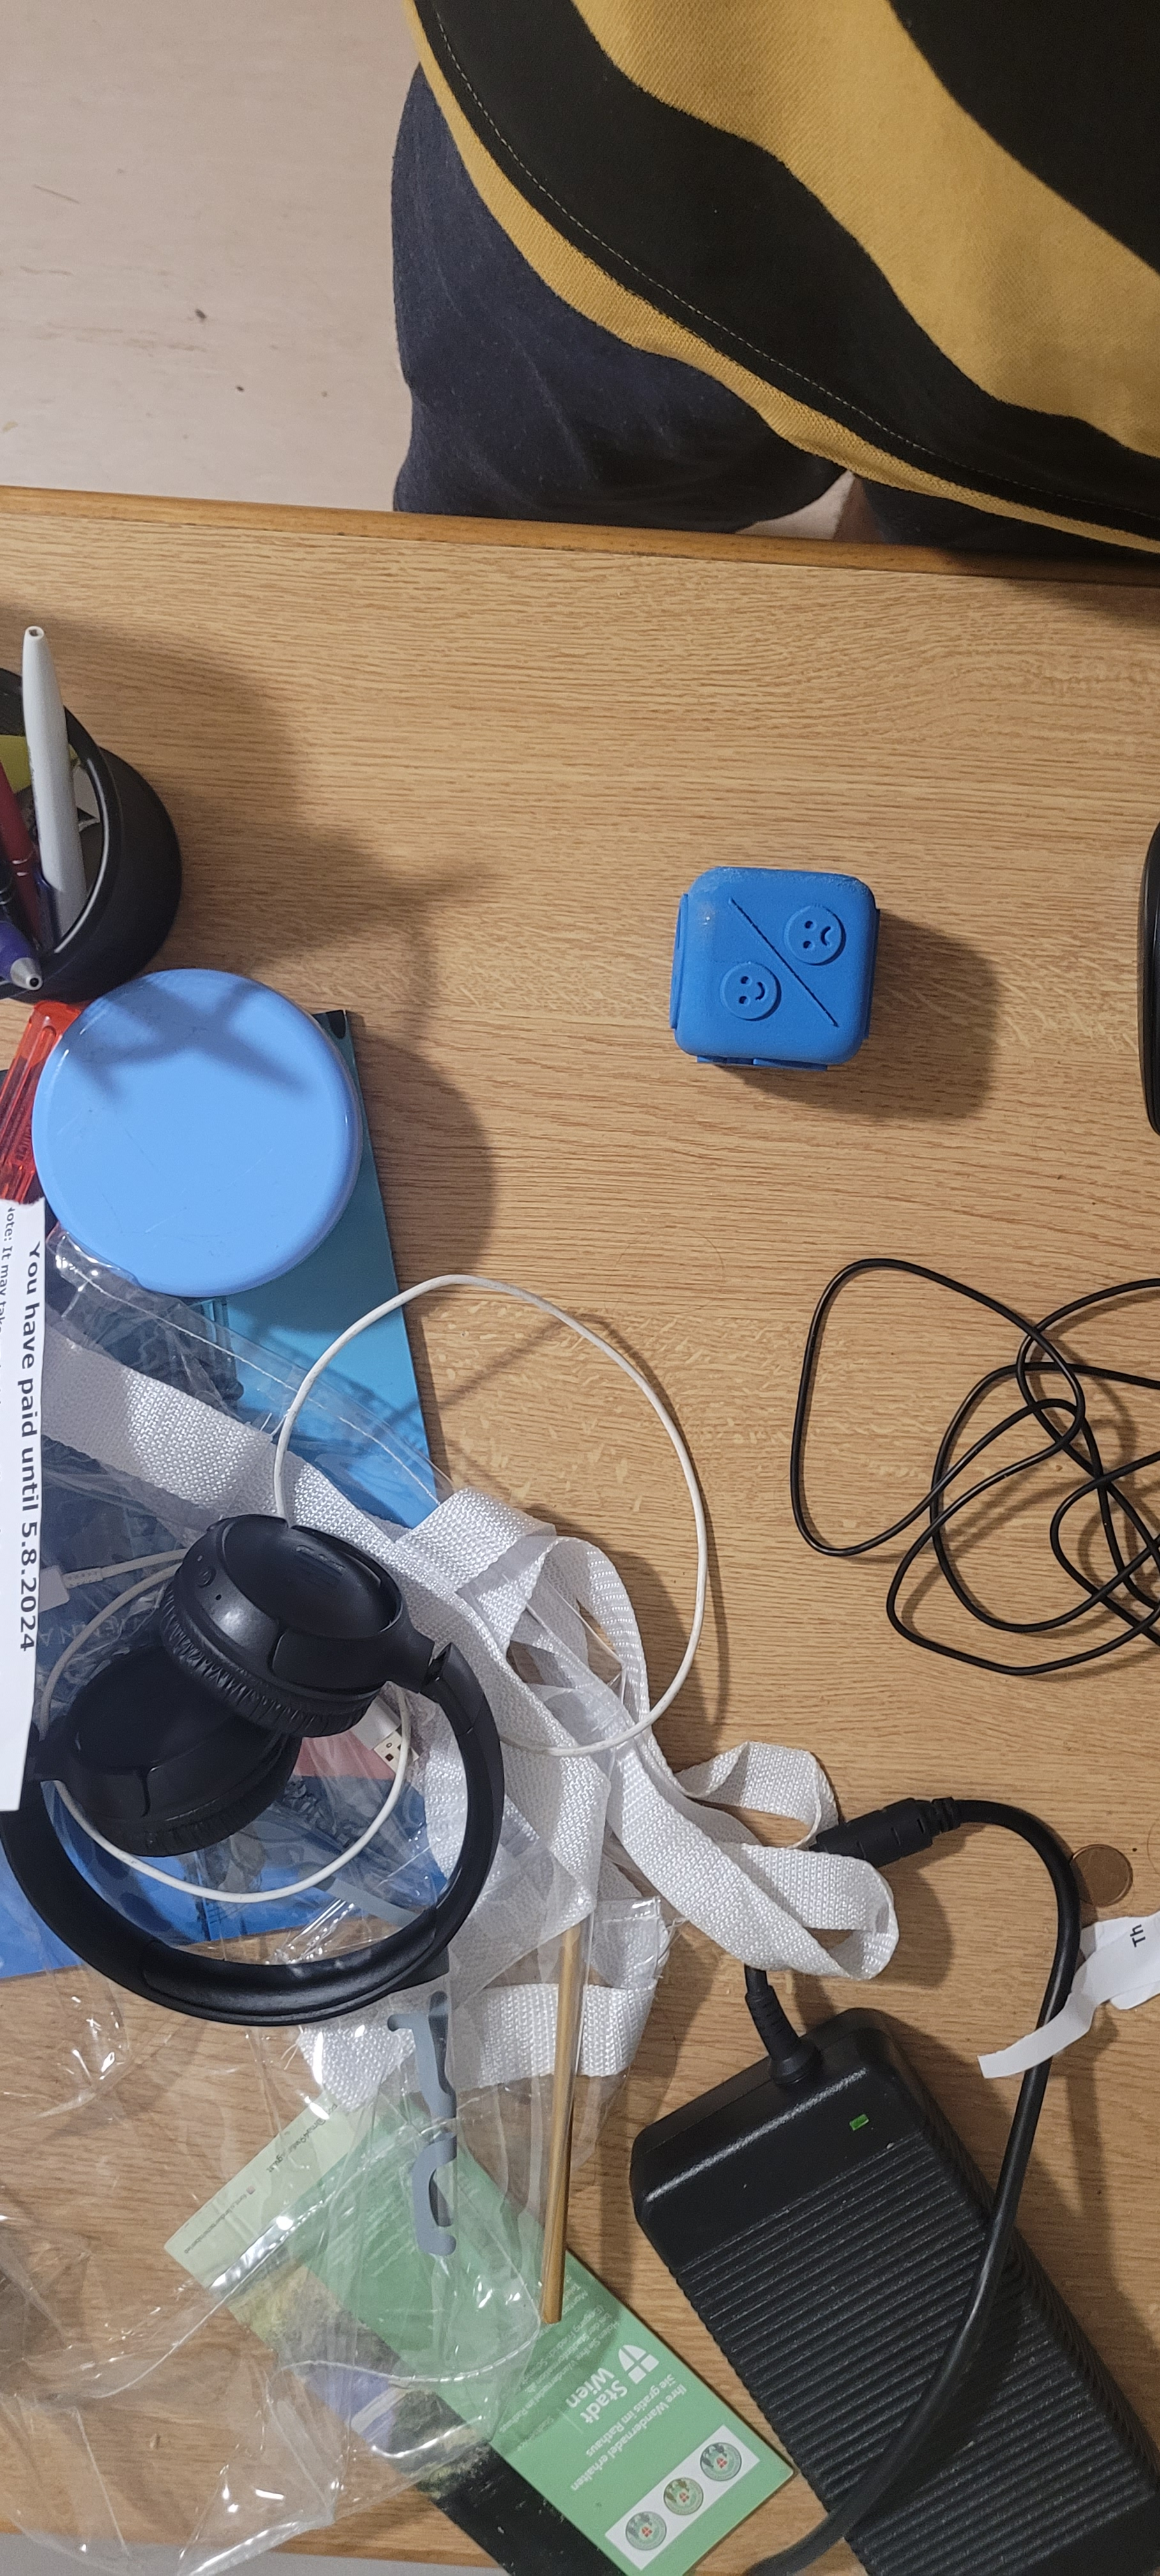Like/Dislike: (679, 858, 881, 1066)
